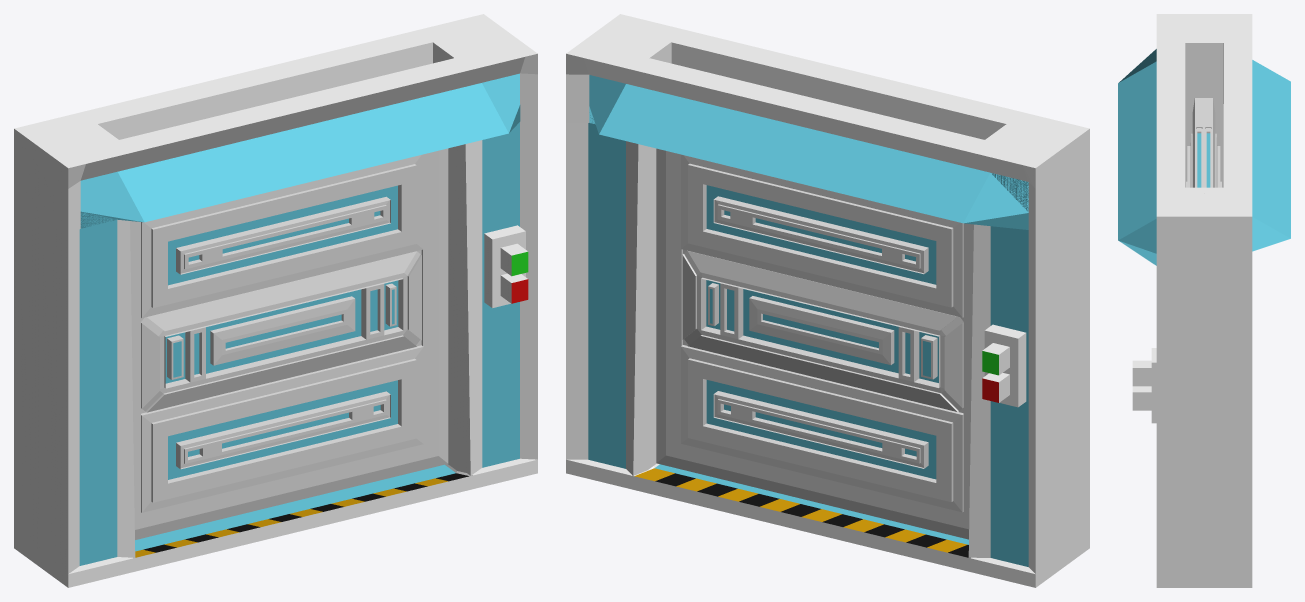
Rendered from doors.fbx.
3 views of the same model, side by side, from view 1: azimuth 30°, elevation 25°; view 2: azimuth 150°, elevation 25°; view 3: azimuth 270°, elevation 25° (orthographic). The views are drawn at different scales.
Parts seen in each view (by area): view 1: Cube.005, Cube.003; view 2: Cube.005, Cube.003; view 3: Cube.005, Cube.003.
Part boxes in pixels (x1=…): Cube.005: x1=14, y1=14, x2=537, y2=587; Cube.003: x1=130, y1=148, x2=448, y2=539; Cube.005: x1=566, y1=14, x2=1089, y2=587; Cube.003: x1=656, y1=148, x2=973, y2=539; Cube.005: x1=1118, y1=14, x2=1290, y2=587; Cube.003: x1=1186, y1=98, x2=1221, y2=187.
Bounding box in the file's own units: 500 × 427 × 180.
